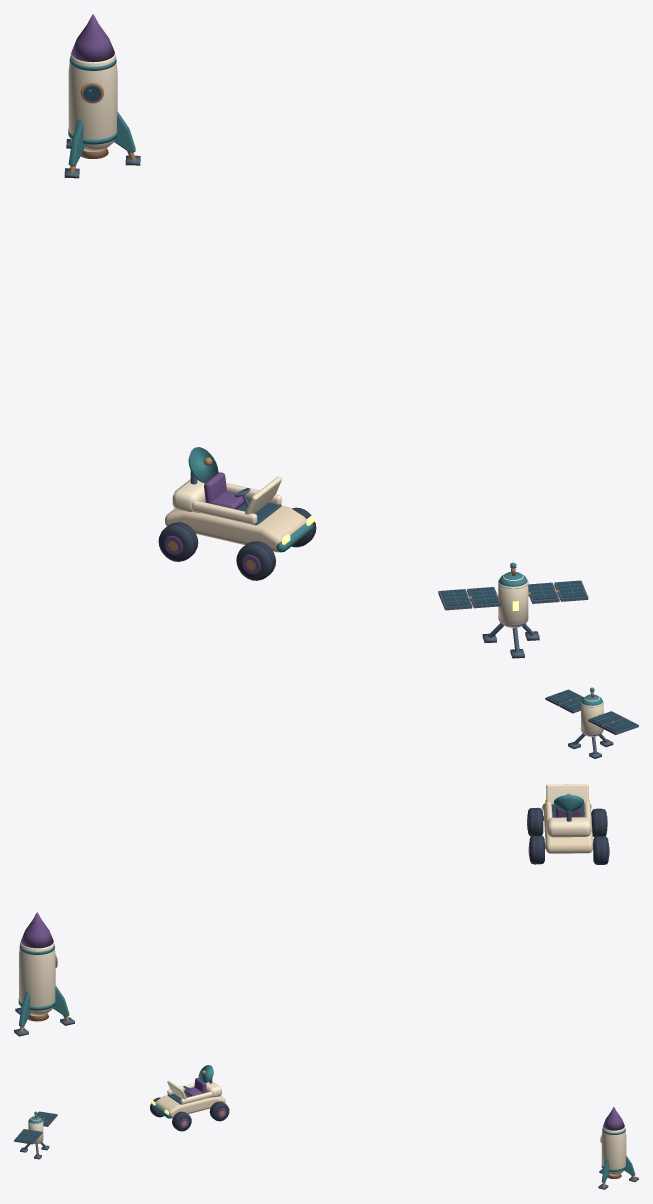
File: grade1-space-props-v1.glb
The picture shows the model from 3 angles, top to bottom: view 1: azimuth 30°, elevation 25°; view 2: azimuth 150°, elevation 25°; view 3: azimuth 270°, elevation 25°; orthographic projection. The views are drawn at different scales.
Parts seen in each view (by area): view 1: Space Explorer Rover Runtime, Space Exploration Rocket Runtime, Space Satellite Relay Runtime; view 2: Space Explorer Rover Runtime, Space Exploration Rocket Runtime, Space Satellite Relay Runtime; view 3: Space Explorer Rover Runtime, Space Exploration Rocket Runtime, Space Satellite Relay Runtime.
Part boxes in pixels (box(x1,y1,x2,y2)): Space Explorer Rover Runtime: box(158, 447, 316, 580); Space Exploration Rocket Runtime: box(64, 14, 140, 178); Space Satellite Relay Runtime: box(438, 562, 588, 658); Space Explorer Rover Runtime: box(527, 784, 609, 864); Space Exploration Rocket Runtime: box(14, 912, 74, 1036); Space Satellite Relay Runtime: box(545, 687, 638, 758); Space Explorer Rover Runtime: box(150, 1065, 229, 1131); Space Exploration Rocket Runtime: box(598, 1107, 638, 1189); Space Satellite Relay Runtime: box(14, 1111, 57, 1159).
Bounding box in the file's own units: 8.5 × 3.58 × 24.
